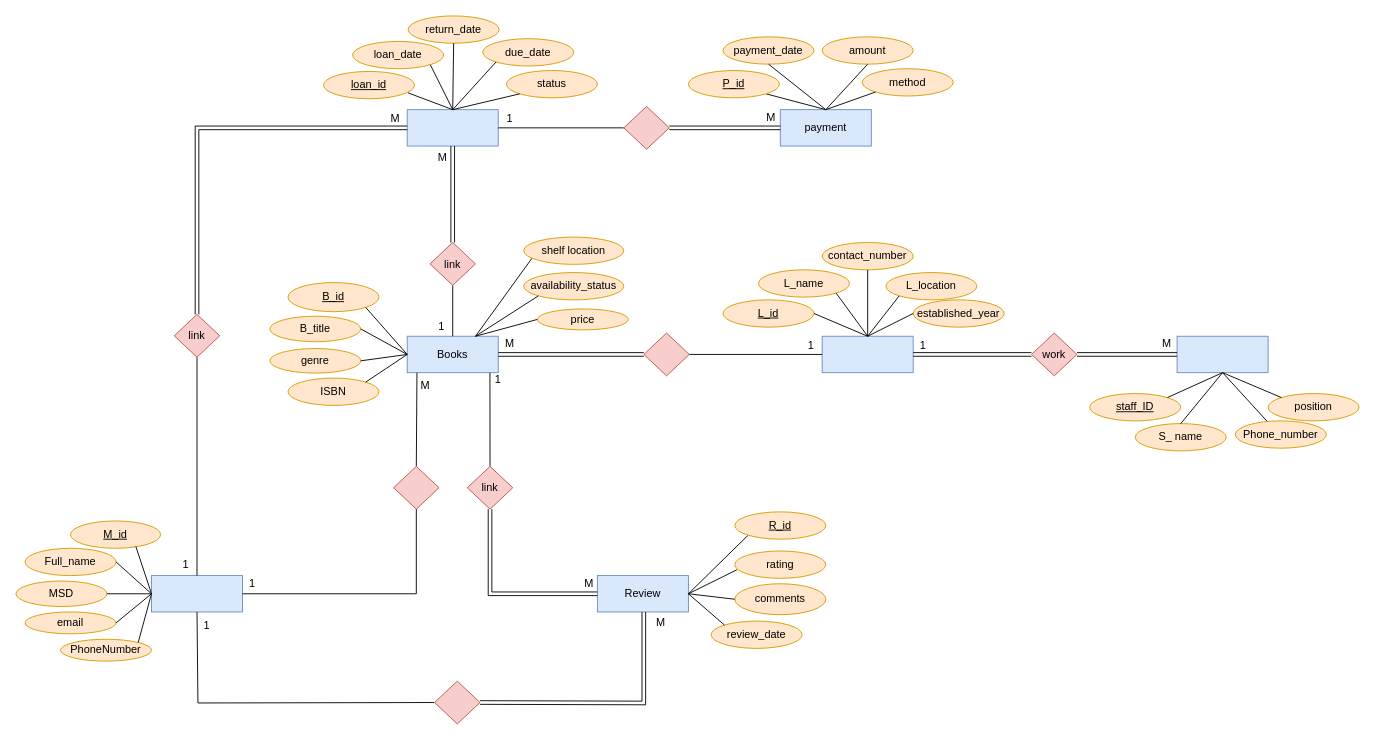
The diagram is 1375 pixels wide and 740 high, and some of its shapes have lost their labels. Each missing label, with the centre of its shape:
"belong" goes at (x=666, y=354).
"borrow" goes at (x=416, y=487).
"have" goes at (x=646, y=127).
"Library" goes at (x=867, y=354).
"loan" goes at (x=452, y=127).
"may" goes at (x=457, y=702).
"Members" goes at (x=197, y=593).
"Staff" goes at (x=1222, y=354).
